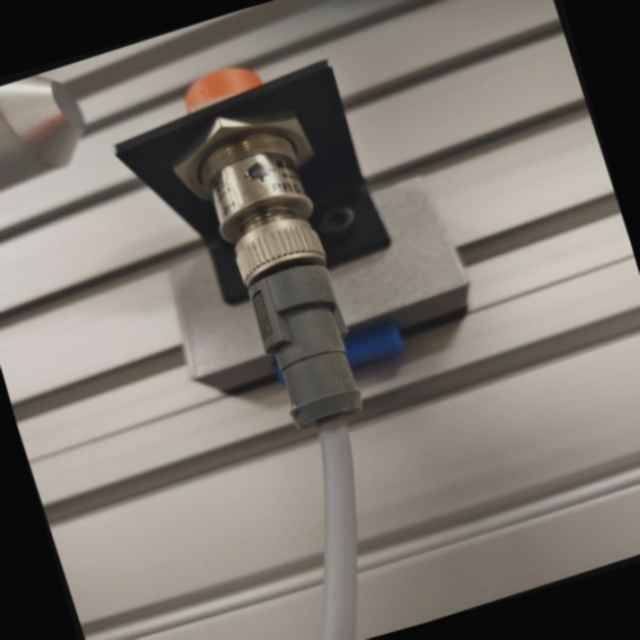inductive sensor: (78, 0, 516, 472)
